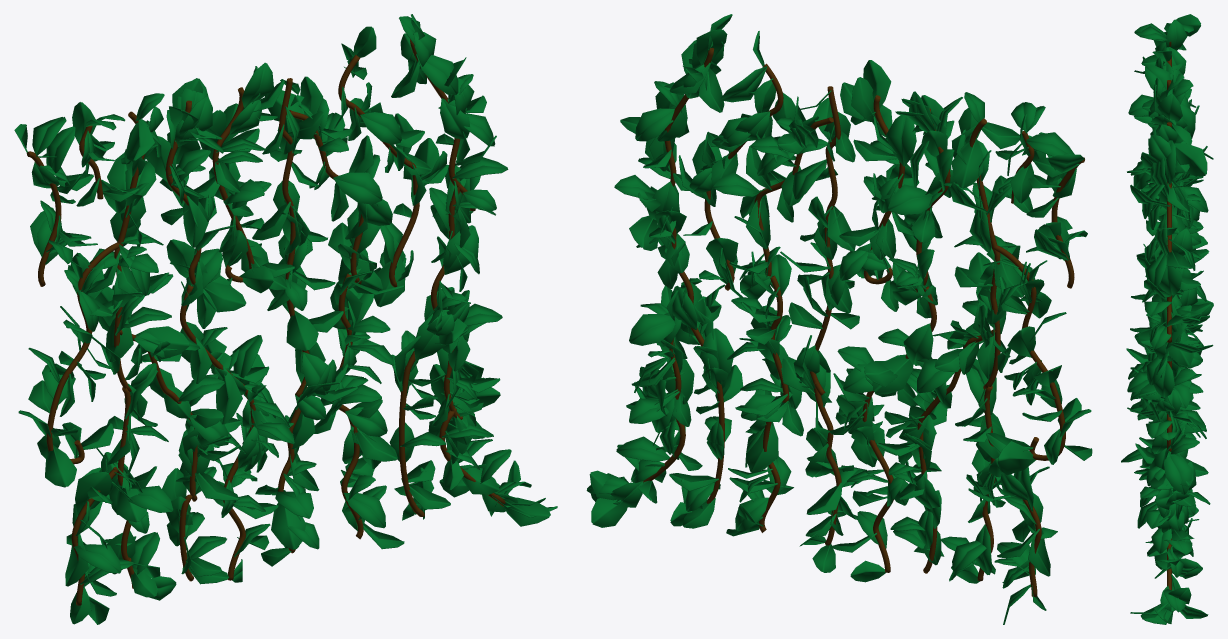
File: Vine_B.fbx
3 views of the same model, side by side, from view 1: azimuth 30°, elevation 25°; view 2: azimuth 150°, elevation 25°; view 3: azimuth 270°, elevation 25° (orthographic). The views are drawn at different scales.
Visible parts, largest first — view 1: Vine_B; view 2: Vine_B; view 3: Vine_B.
Boxes of the visible parts, left/top/right/bottom form: Vine_B: left=14, top=14, right=557, bottom=624; Vine_B: left=586, top=14, right=1092, bottom=624; Vine_B: left=1121, top=14, right=1213, bottom=624.
Size of the model in its own units: 200 by 199 by 37.17.
